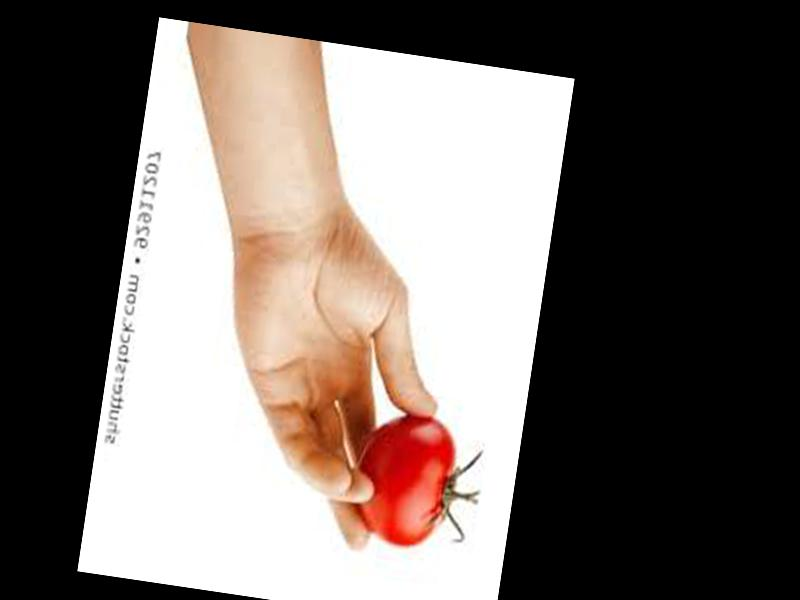Tomato: (346, 406, 461, 553)
